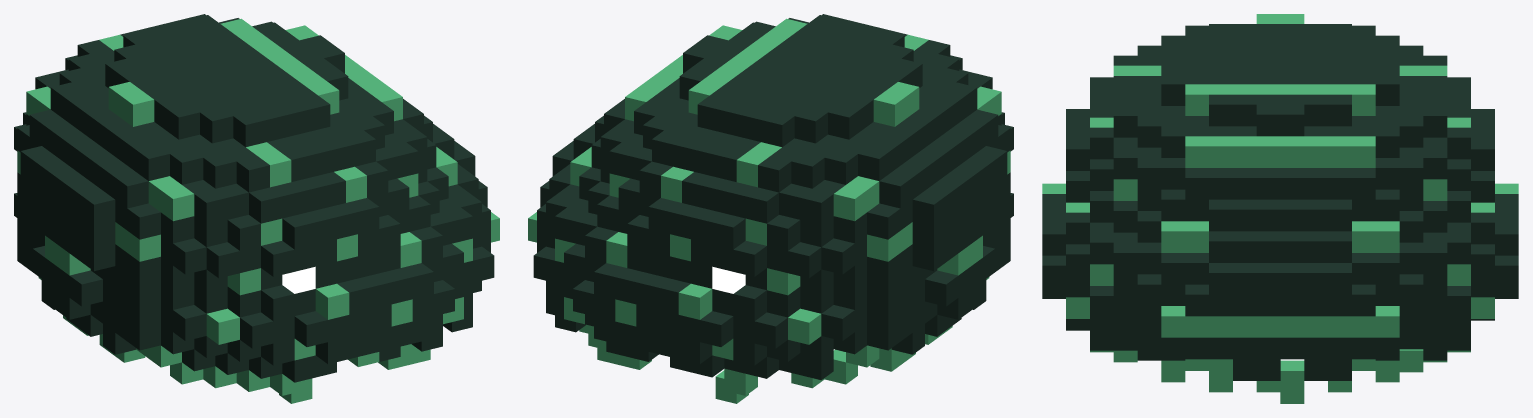
The model's file is mystic_common_shoulder_L.glb.
3 views of the same model, side by side, from view 1: azimuth 30°, elevation 25°; view 2: azimuth 150°, elevation 25°; view 3: azimuth 270°, elevation 25° (orthographic). The views are drawn at different scales.
Parts seen in each view (by area): view 1: mystic_common_shoulder_L; view 2: mystic_common_shoulder_L; view 3: mystic_common_shoulder_L.
Part boxes in pixels (x1=…): mystic_common_shoulder_L: x1=14, y1=14, x2=499, y2=403; mystic_common_shoulder_L: x1=528, y1=14, x2=1013, y2=403; mystic_common_shoulder_L: x1=1042, y1=14, x2=1518, y2=403.
Size of the model in its own units: 0.216 by 0.144 by 0.24.
